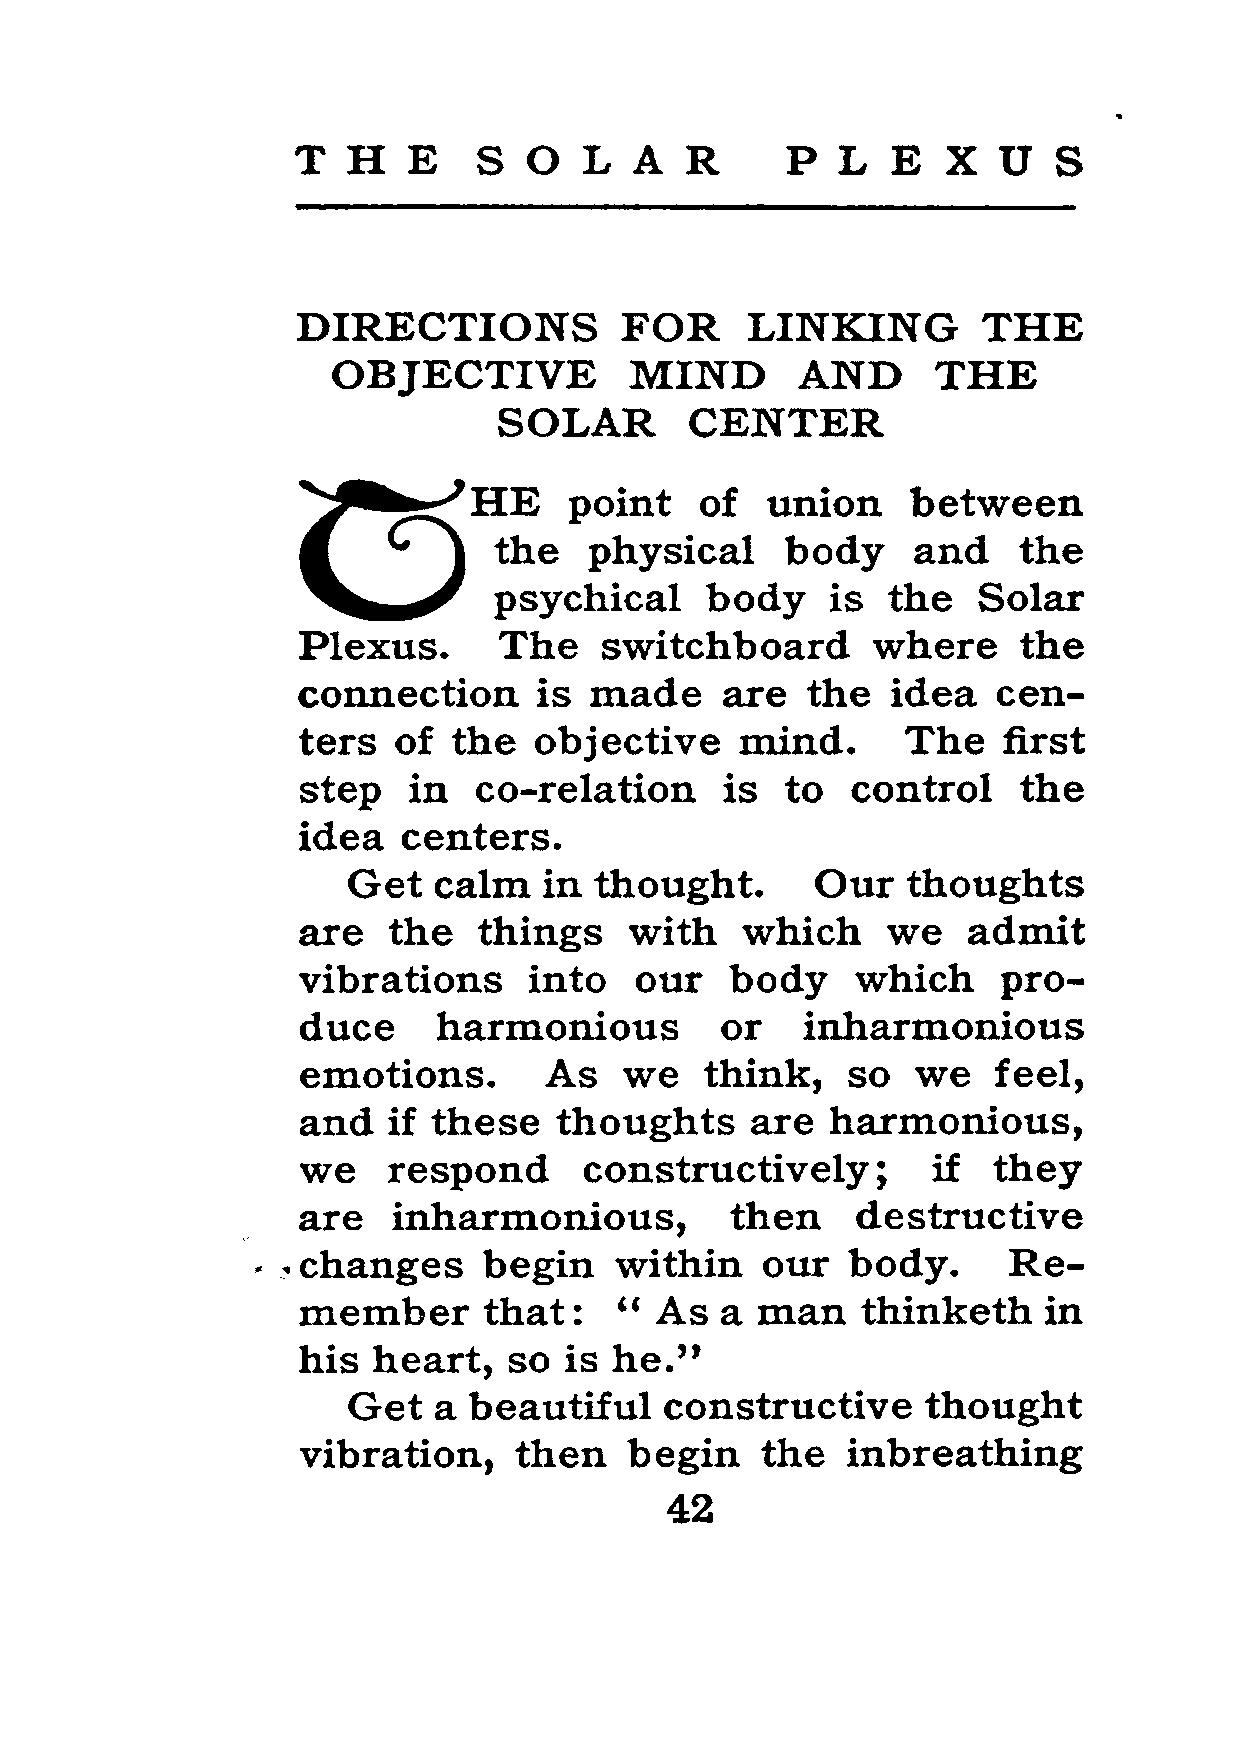chapter: (291, 309, 1083, 439), (289, 136, 1084, 181)
content: (293, 470, 1088, 1479)
content_pagenumber: (664, 1490, 717, 1529)
